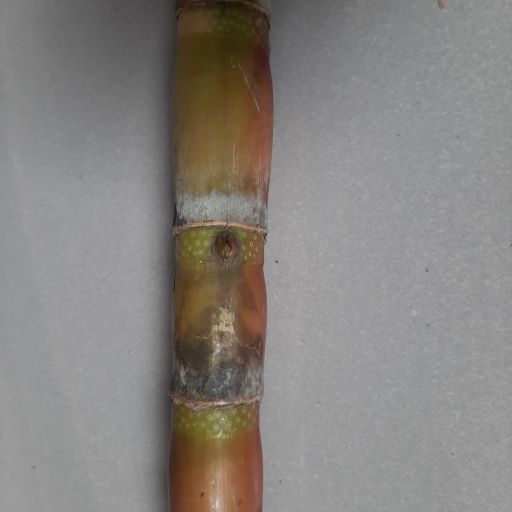Bud: (215, 231, 238, 263)
